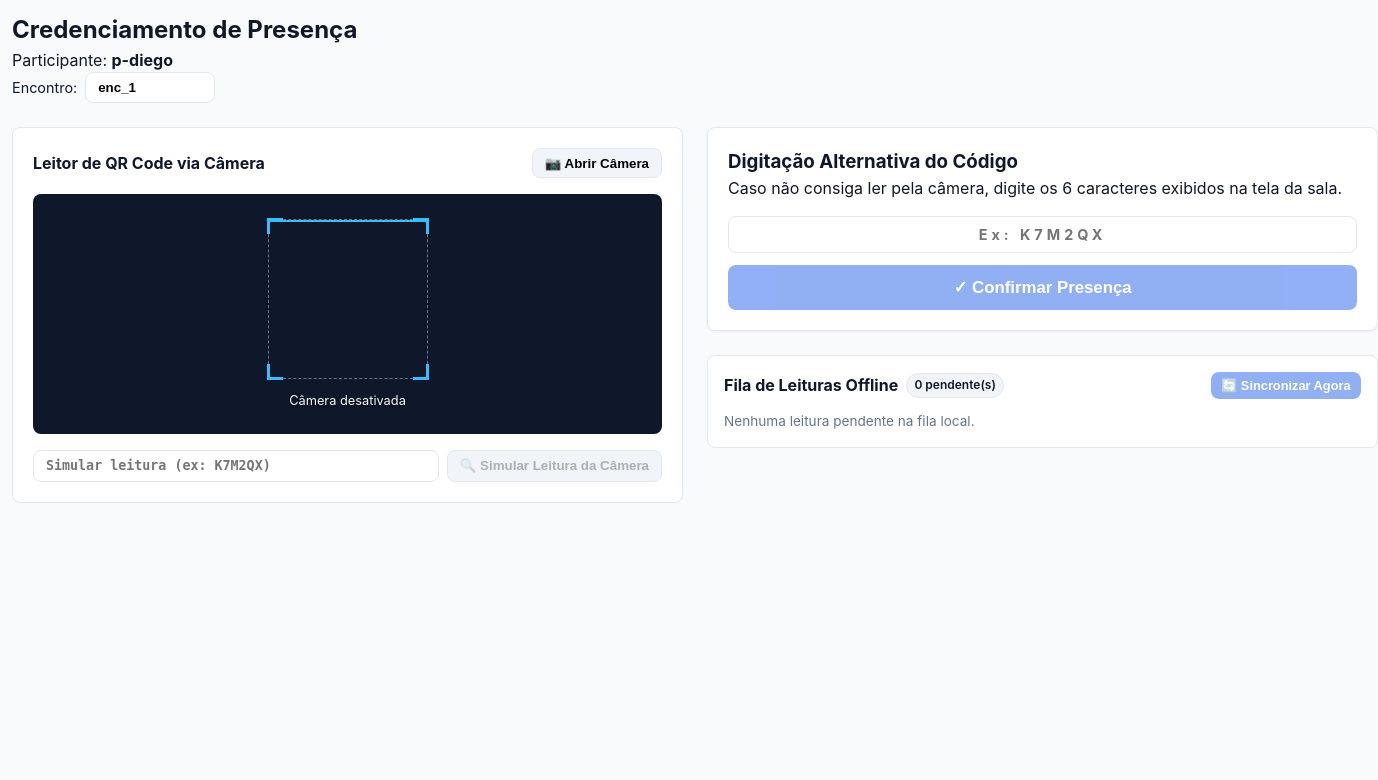
Scenario: M3 — Tela do Participante › informa idempotência com retorno 200 OK quando presença já foi confirmada anteriormente
Type "K7M2QX" into the field with test id "input-codigo-manual" at coordinates (1042, 235), box [728,216,1357,253]
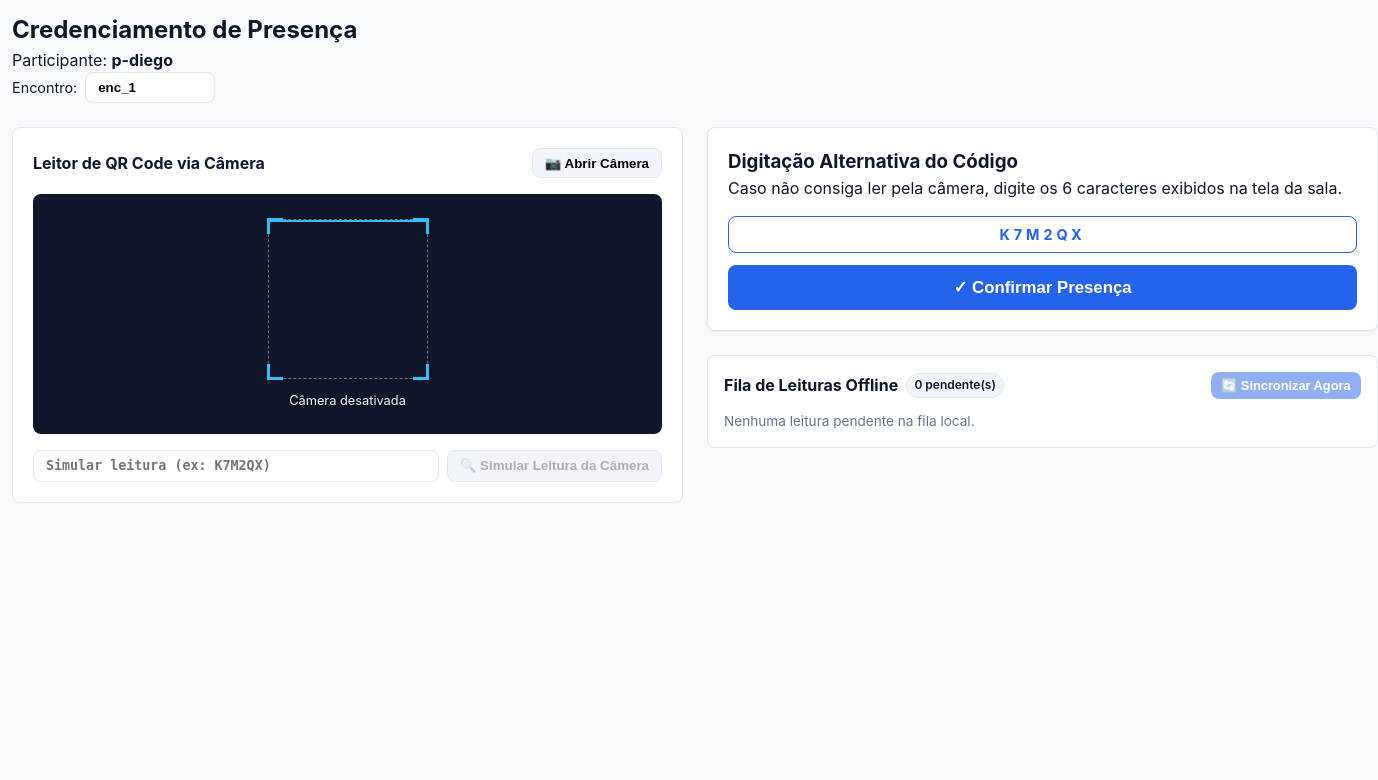
Click the button with test id "btn-confirmar-presenca" at coordinates (1042, 288), box [728,265,1357,310]
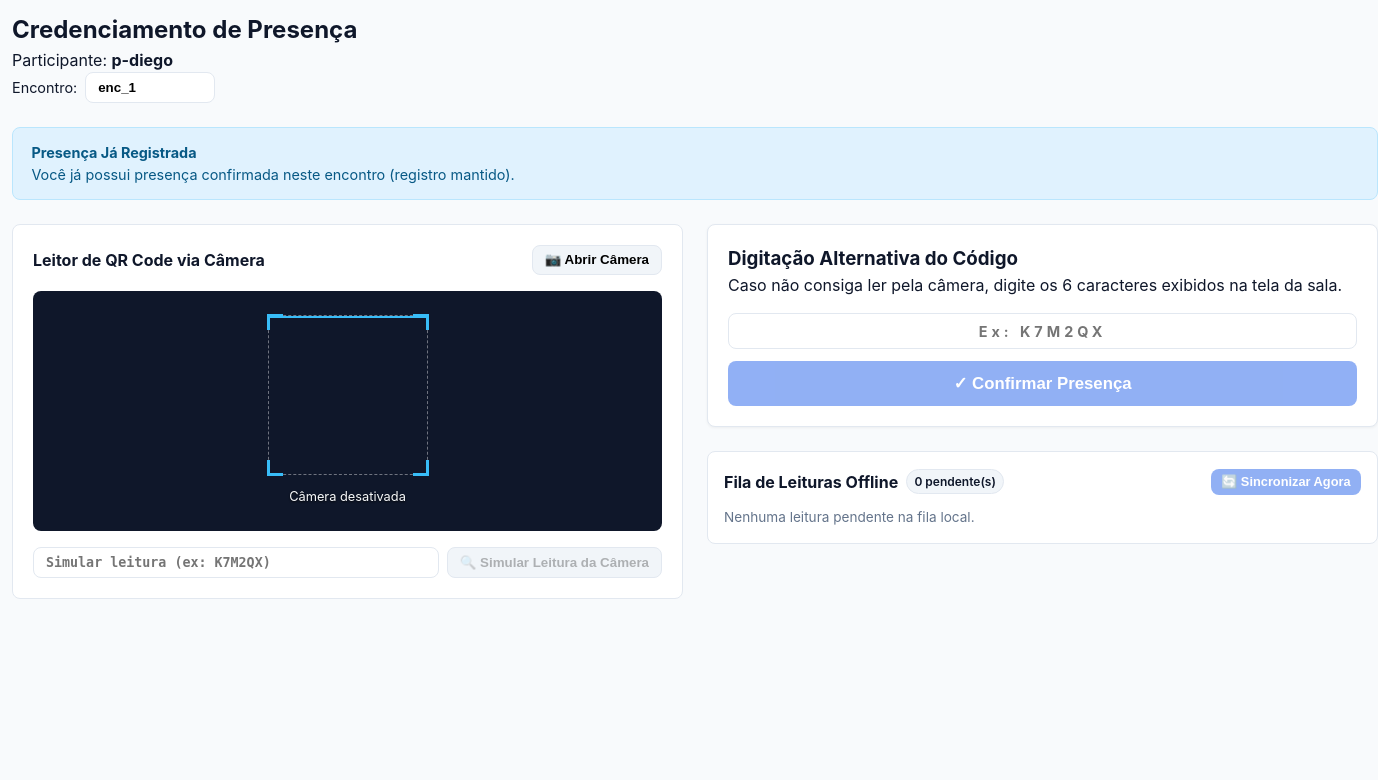
Check: the element with test id "participante-feedback" shows "Presença Já Registrada", box [31,144,197,161]
Check: the element with test id "participante-feedback" shows "Você já possui presença confirmada neste encontro (registro mantido).", box [31,166,515,183]
